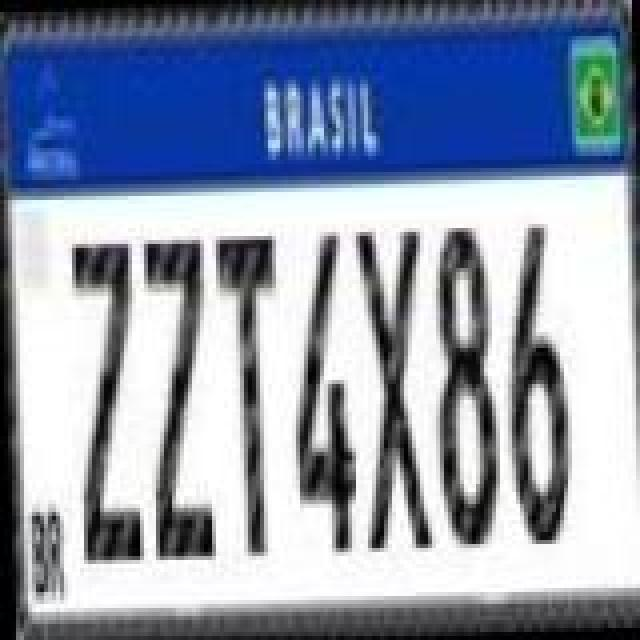4: (278, 220, 354, 560)
6: (494, 210, 570, 550)
8: (422, 216, 498, 556)
T: (210, 222, 286, 562)
X: (348, 218, 428, 558)
Z: (138, 226, 214, 566), (66, 236, 142, 564)
